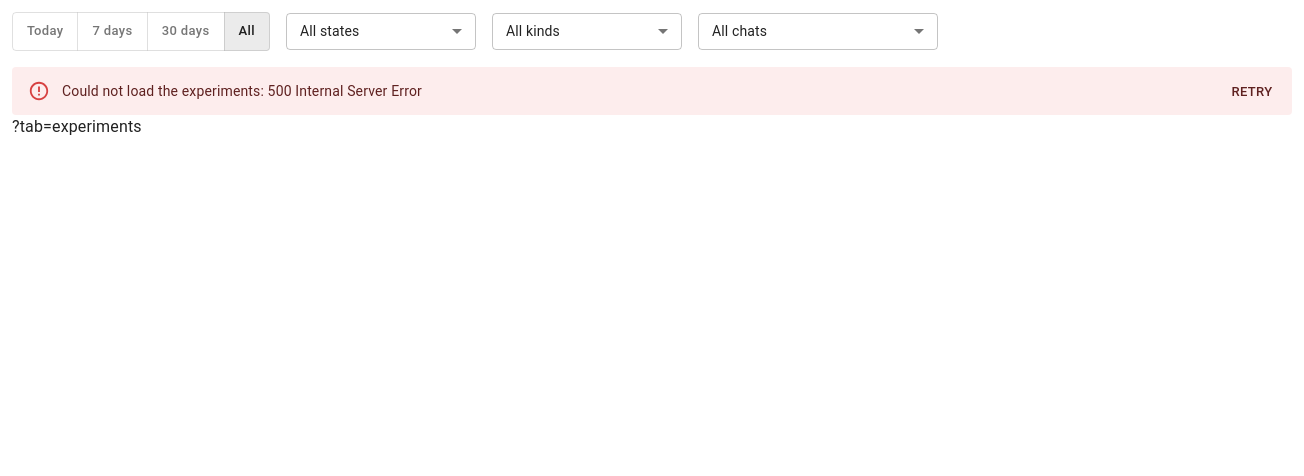
Scenario: ExperimentsOverview › shows an error with Retry when the first load fails
Expected: the message with test id "overview-error" shows "Could not load the experiments: 500 Internal Server Error", [62, 83, 422, 99]
Click the button "Retry": click(1252, 92) [1220, 77, 1284, 108]
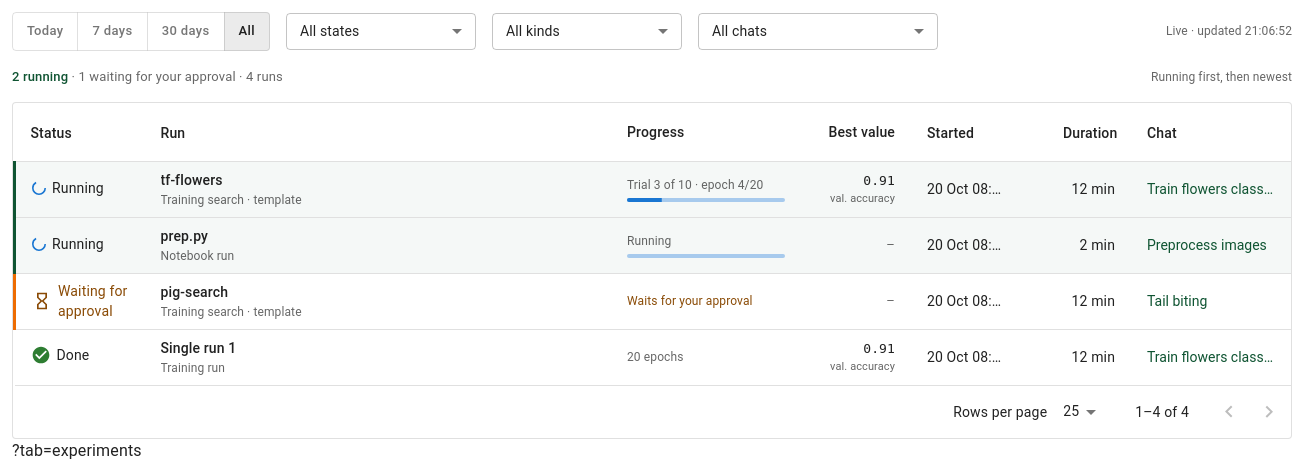
Now the element with test id "overview-table" is shown
